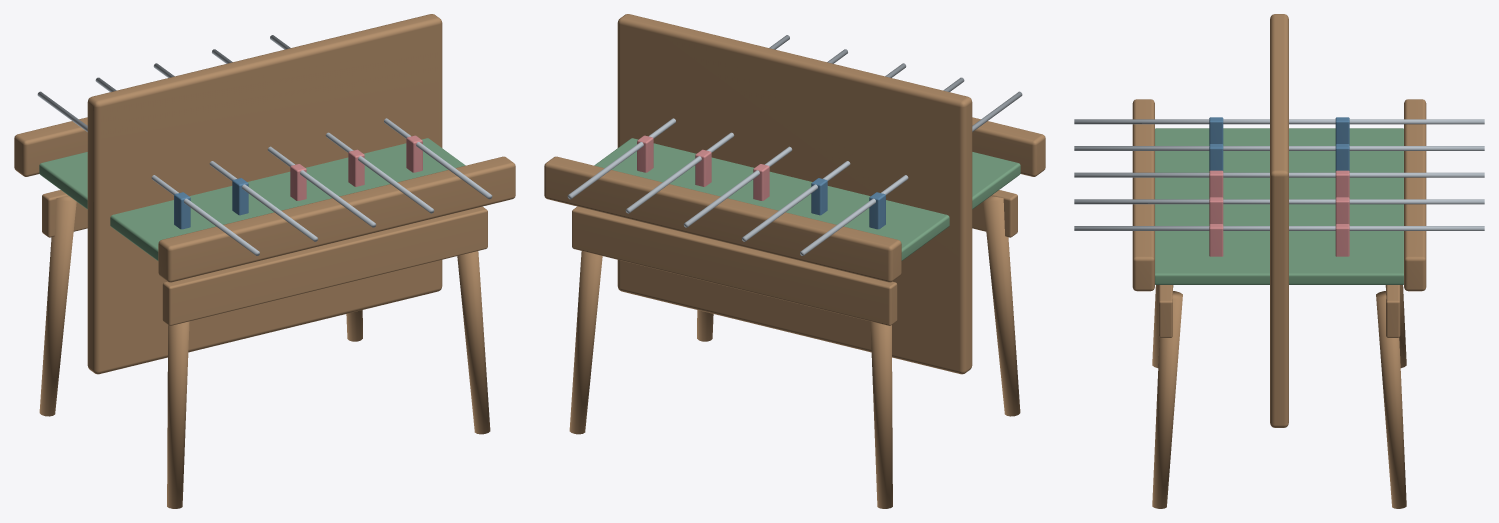
The model's file is atelier-foosball-table.glb.
3 renders of one model, left to right at view 1: azimuth 30°, elevation 25°; view 2: azimuth 150°, elevation 25°; view 3: azimuth 270°, elevation 25°, orthographic. The views are drawn at different scales.
Parts seen in each view (by area): view 1: legs.234, artGreen.021, steel.064, flower.009, artBlue.035; view 2: legs.234, artGreen.021, steel.064, flower.009, artBlue.035; view 3: artGreen.021, legs.234, steel.064, flower.009, artBlue.035.
Boxes of the visible parts, <box> form: legs.234: <box>14,14,515,508</box>; artGreen.021: <box>39,138,465,260</box>; steel.064: <box>37,35,492,255</box>; flower.009: <box>290,135,422,200</box>; artBlue.035: <box>174,178,248,229</box>; legs.234: <box>544,14,1045,508</box>; artGreen.021: <box>594,138,1020,260</box>; steel.064: <box>567,35,1022,255</box>; flower.009: <box>637,135,769,200</box>; artBlue.035: <box>811,178,885,229</box>; artGreen.021: <box>1155,128,1403,284</box>; legs.234: <box>1132,14,1426,508</box>; steel.064: <box>1074,119,1484,230</box>; flower.009: <box>1209,170,1349,256</box>; artBlue.035: <box>1209,117,1349,170</box>.
Bounding box in the file's own units: 1.2 × 1.2 × 1.3.
